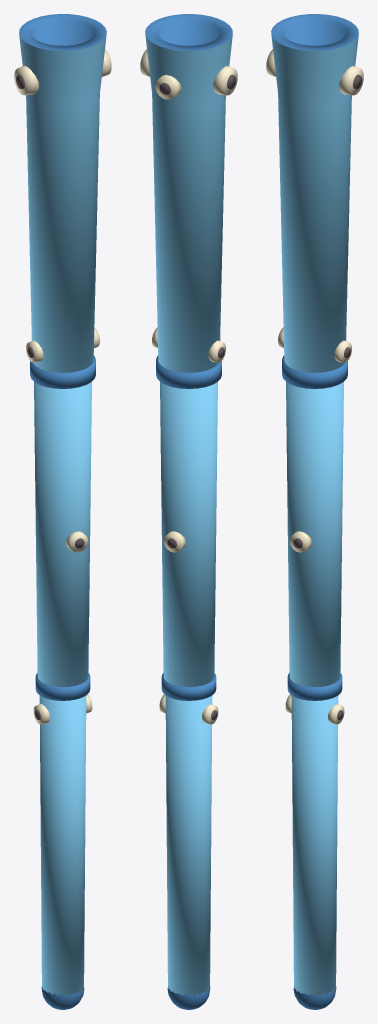
The model's file is Nami_ClimaTact_v2.fbx.
3 renders of one model, left to right at view 1: azimuth 30°, elevation 25°; view 2: azimuth 150°, elevation 25°; view 3: azimuth 330°, elevation 25°, orthographic.
Visible parts, largest first — view 1: Nami_SkyBlueBarrels, Nami_DarkCobalt, Nami_CreamRings, Nami_DarkDots; view 2: Nami_SkyBlueBarrels, Nami_DarkCobalt, Nami_CreamRings, Nami_DarkDots; view 3: Nami_SkyBlueBarrels, Nami_DarkCobalt, Nami_CreamRings, Nami_DarkDots.
Part boxes in pixels (x1=…): Nami_SkyBlueBarrels: x1=19, y1=34, x2=106, y2=995; Nami_DarkCobalt: x1=19, y1=14, x2=106, y2=1009; Nami_CreamRings: x1=14, y1=49, x2=111, y2=724; Nami_DarkDots: x1=16, y1=74, x2=84, y2=719; Nami_SkyBlueBarrels: x1=145, y1=34, x2=232, y2=995; Nami_DarkCobalt: x1=145, y1=14, x2=232, y2=1009; Nami_CreamRings: x1=140, y1=49, x2=237, y2=724; Nami_DarkDots: x1=159, y1=74, x2=235, y2=719; Nami_SkyBlueBarrels: x1=271, y1=34, x2=358, y2=995; Nami_DarkCobalt: x1=271, y1=14, x2=358, y2=1009; Nami_CreamRings: x1=266, y1=49, x2=363, y2=724; Nami_DarkDots: x1=293, y1=74, x2=361, y2=719.
Size of the model in its own units: 0.4205 by 4.5 by 0.3876.
